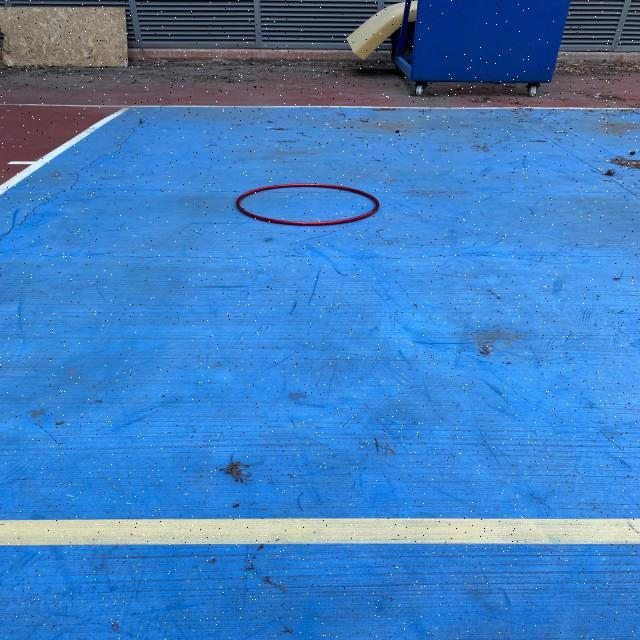Circle: (236, 182, 380, 226)
